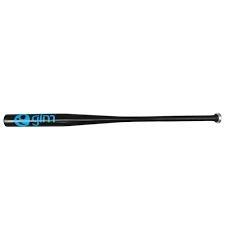Baseball-Bat: (3, 113, 222, 127)
